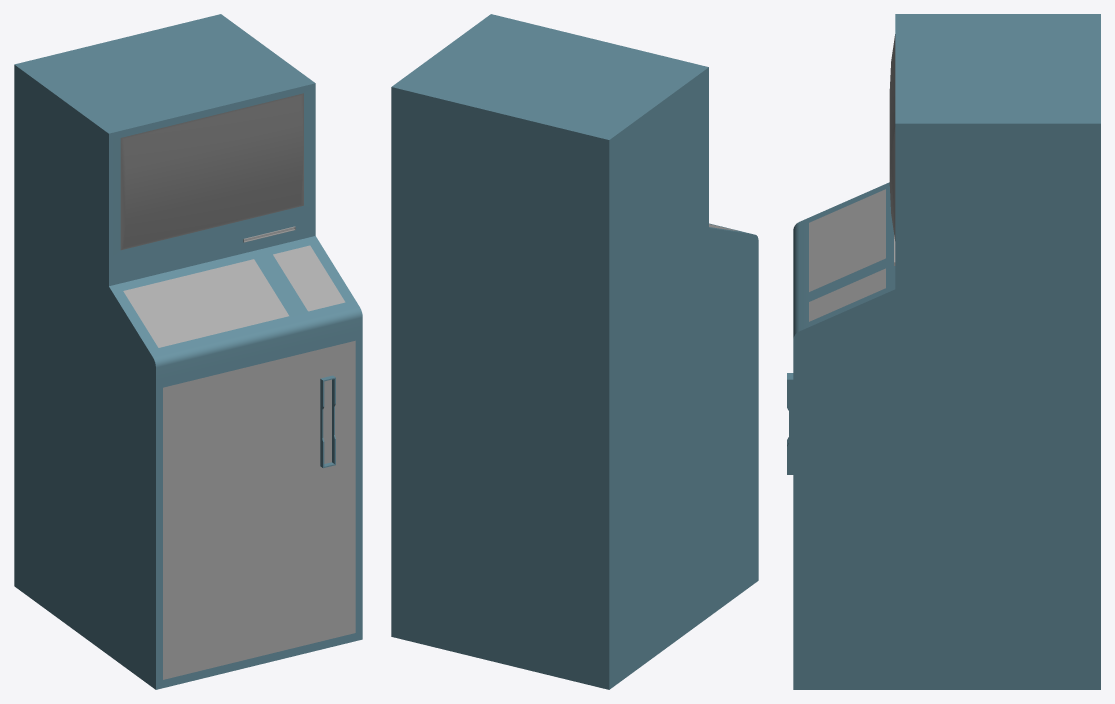
File: Terminal.fbx
3 renders of one model, left to right at view 1: azimuth 30°, elevation 25°; view 2: azimuth 150°, elevation 25°; view 3: azimuth 270°, elevation 25°, orthographic. The views are drawn at different scales.
Visible parts, largest first — view 1: Terminal; view 2: Terminal; view 3: Terminal.
Part boxes in pixels (bbox=[...]): Terminal: bbox=[14, 14, 362, 689]; Terminal: bbox=[391, 14, 758, 689]; Terminal: bbox=[787, 14, 1100, 689].
Bounding box in the file's own units: 2.4 × 5.79 × 2.9.
